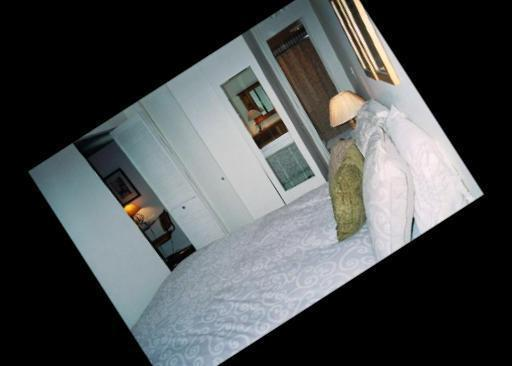Armario: (141, 66, 287, 243)
Ducha: (269, 24, 358, 137)
Puerta: (110, 108, 236, 271)
